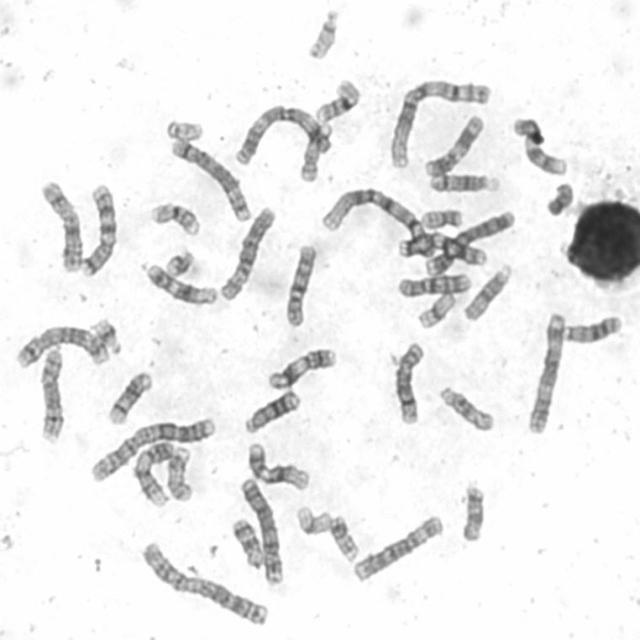A1: (386, 74, 493, 170), (316, 182, 436, 261)
A2: (137, 538, 270, 629), (85, 412, 218, 484)
A3: (230, 101, 334, 168), (523, 307, 568, 435)
B4: (419, 205, 518, 279), (236, 473, 286, 587)
B5: (166, 134, 253, 223), (11, 321, 112, 370)
C10: (280, 240, 318, 329), (394, 270, 473, 299)
C11: (420, 110, 485, 178), (263, 343, 339, 391)
C12: (141, 258, 218, 307), (244, 438, 312, 493)
C6: (349, 510, 446, 584), (215, 201, 277, 303)
C7: (76, 179, 118, 278), (394, 229, 488, 267)
C8: (391, 336, 426, 427), (36, 340, 66, 444)
C9: (508, 112, 569, 176), (130, 436, 177, 509)
D13: (240, 385, 302, 435), (558, 311, 624, 345)
D14: (104, 366, 154, 426), (425, 170, 501, 195)
D15: (460, 260, 514, 324), (434, 382, 496, 434)
E16: (311, 74, 362, 125), (146, 198, 202, 238)
E17: (297, 119, 335, 188), (163, 442, 195, 503)
E18: (228, 514, 266, 570), (458, 480, 486, 543)
F19: (413, 289, 458, 331), (292, 501, 334, 537)
F20: (327, 512, 360, 563), (418, 205, 464, 230)
G21: (88, 314, 124, 356), (161, 245, 197, 279)
G22: (303, 4, 342, 60), (162, 115, 205, 143)
X: (36, 176, 84, 274)
Y: (542, 178, 575, 218)
